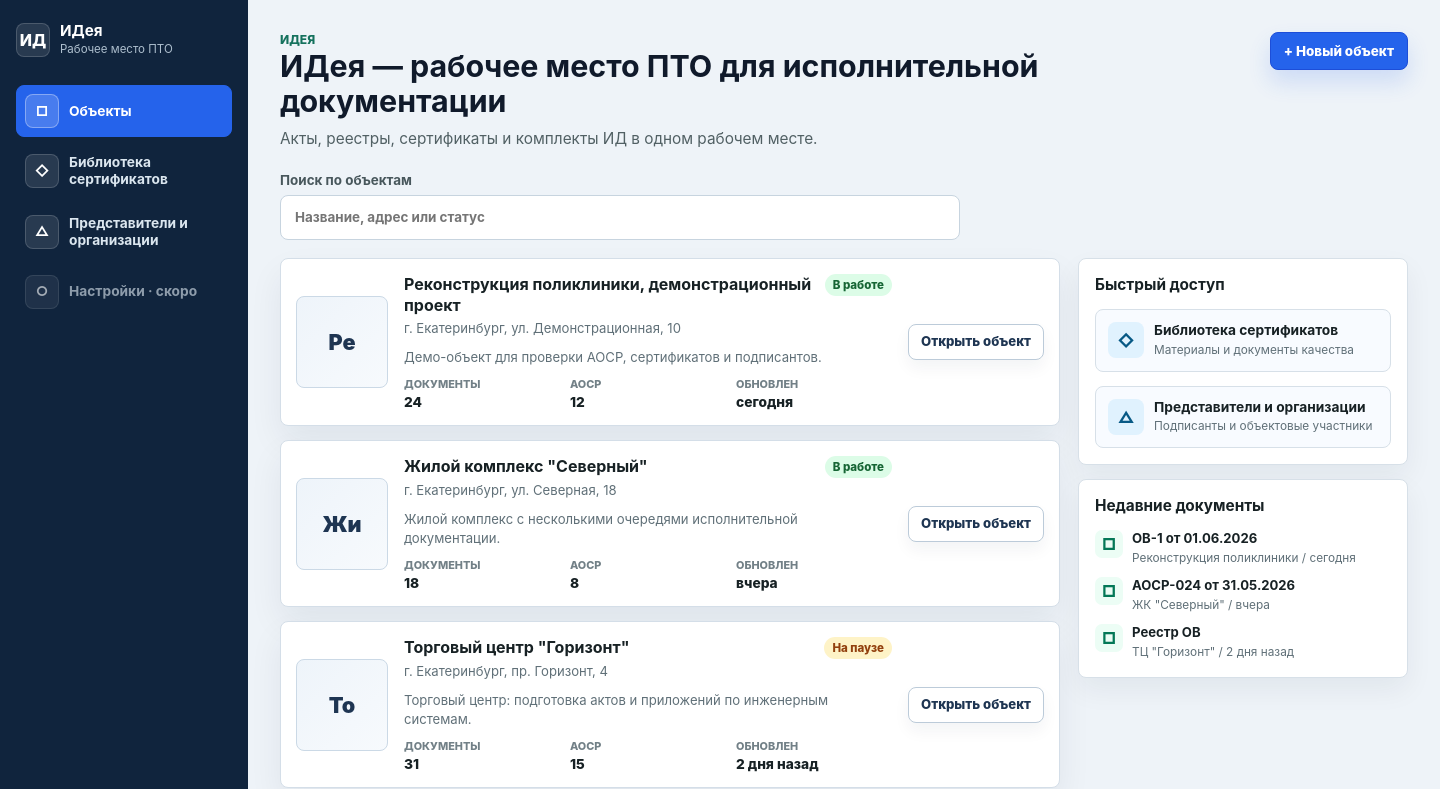
Test case: App shell mock navigation › switches object workspace sections and renders the object documents page
Click the 1st link "Открыть объект": (976, 342) x1=908 y1=324 x2=1044 y2=360
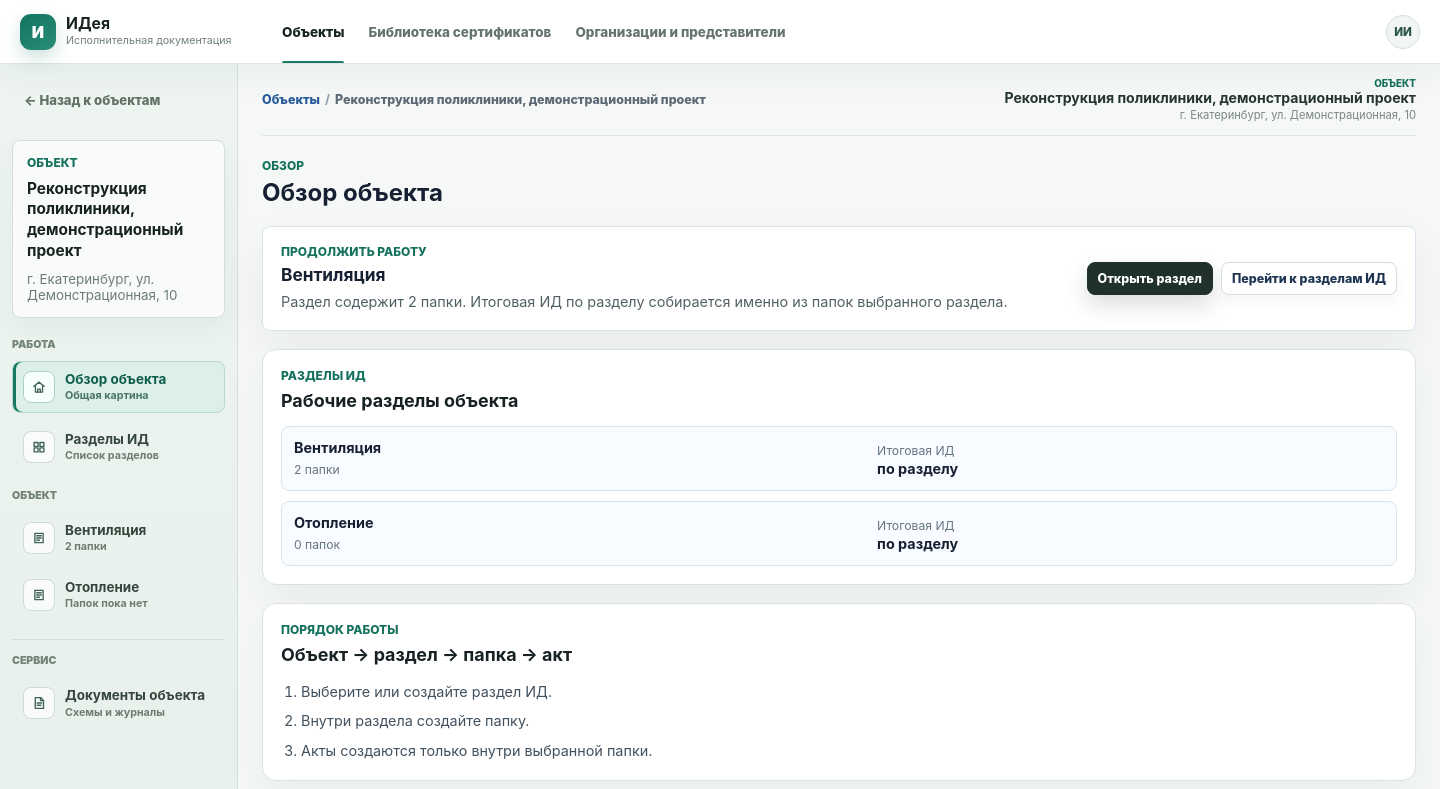
Click the link with aria-label "Открыть документы объекта": (118, 703) x1=12 y1=677 x2=225 y2=729
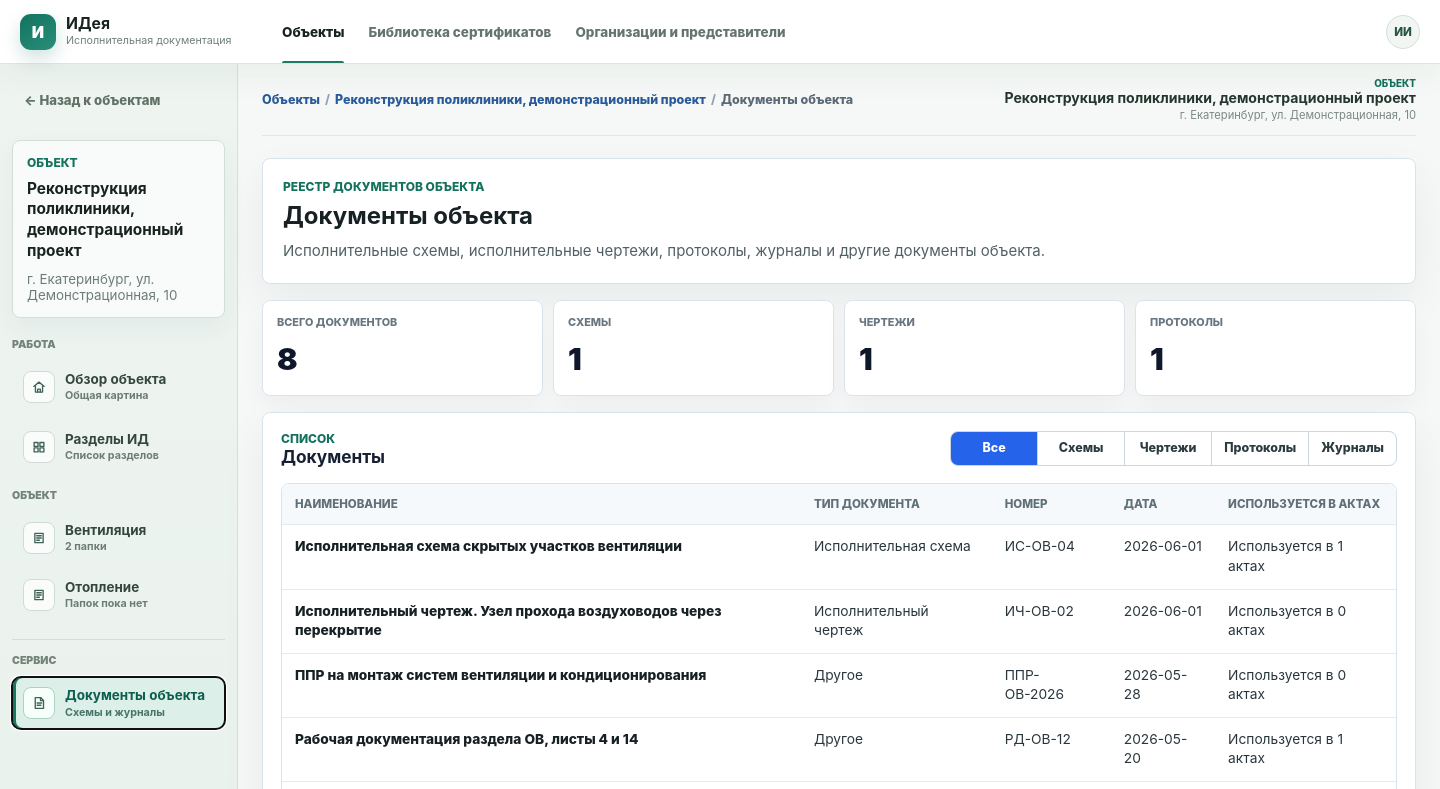
expect the heading "Документы объекта" is shown: met, box x1=283 y1=201 x2=533 y2=230
expect the text "Исполнительные схемы, исполнительные чертежи, протоколы, журналы и другие документы объекта." is shown: met, box x1=283 y1=241 x2=1045 y2=260
expect the column heading "Наименование" is shown: met, box x1=282 y1=484 x2=801 y2=525
Click the link with aria-label "Открыть раздел Вентиляция": (85, 538) x1=23 y1=522 x2=146 y2=554
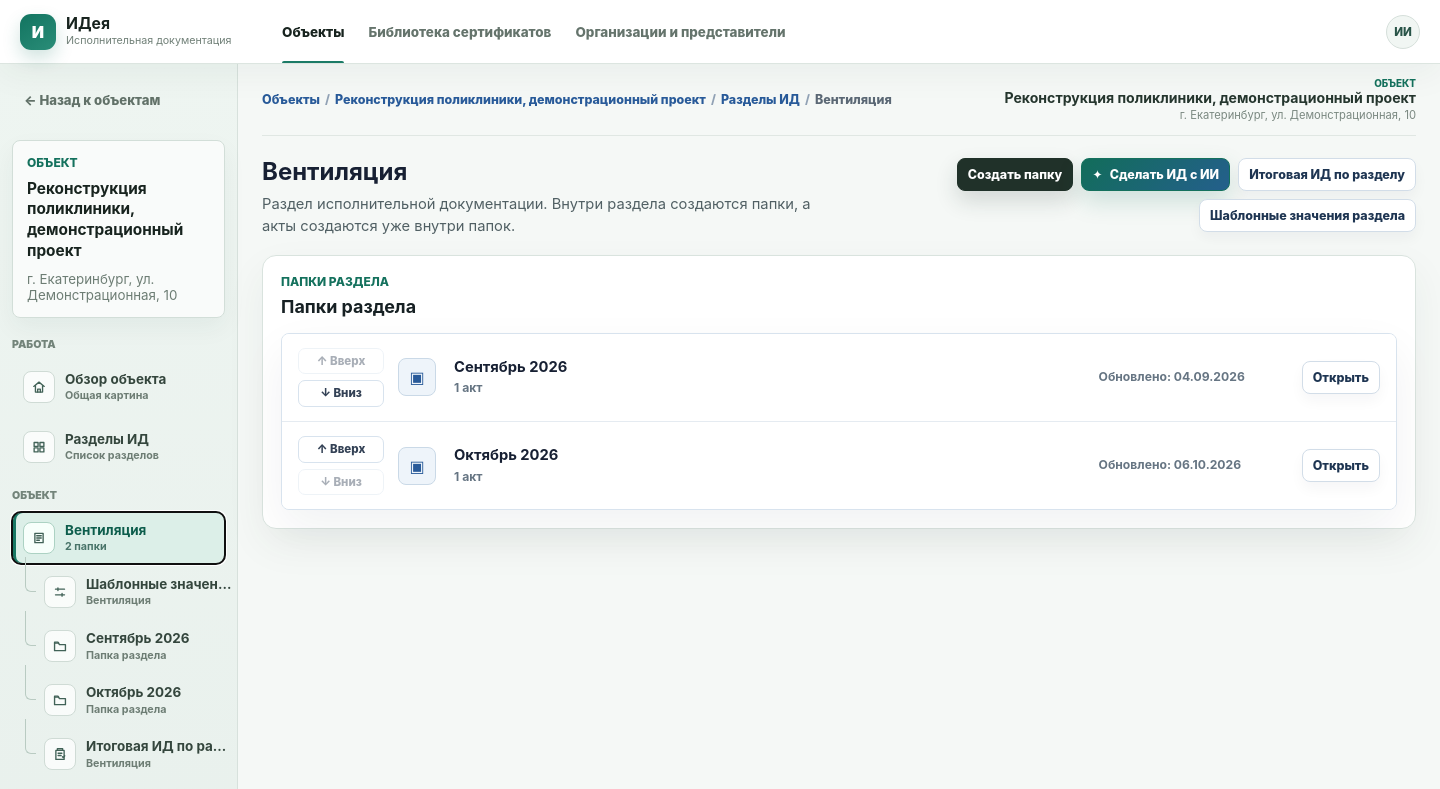
Click the link with aria-label "Открыть папку Сентябрь 2026": (117, 646) x1=44 y1=630 x2=189 y2=662
(page scrolled)
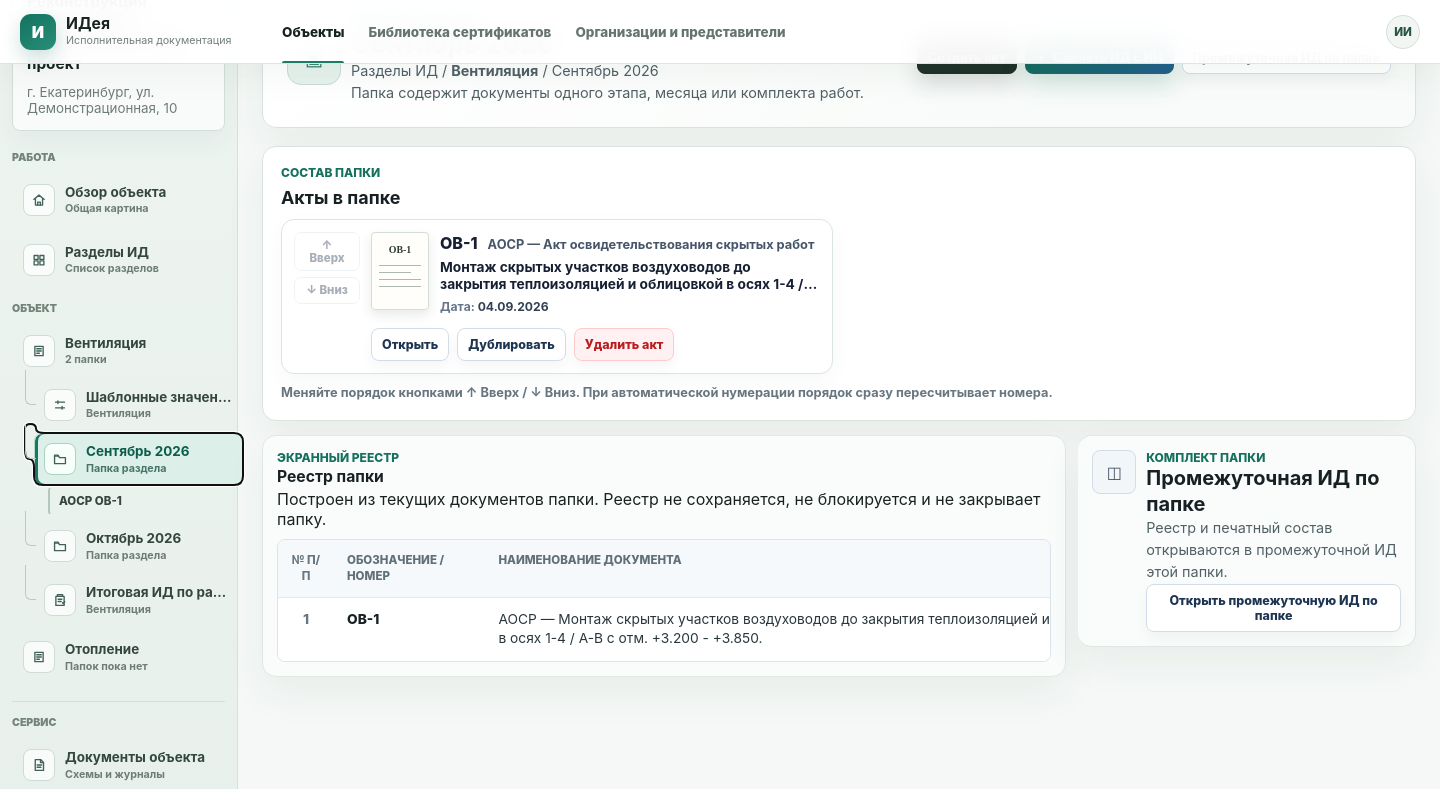
expect the heading "Акты в папке" is shown: met, box x1=281 y1=187 x2=400 y2=208
expect the link "АОСР ОВ-1" is shown: met, box x1=48 y1=487 x2=225 y2=515
expect the heading "Реестр папки" is shown: met, box x1=277 y1=467 x2=384 y2=486
Click the link "Итоговая ИД по разделу Вентиляция": (138, 600) x1=34 y1=574 x2=243 y2=626
(page scrolled)
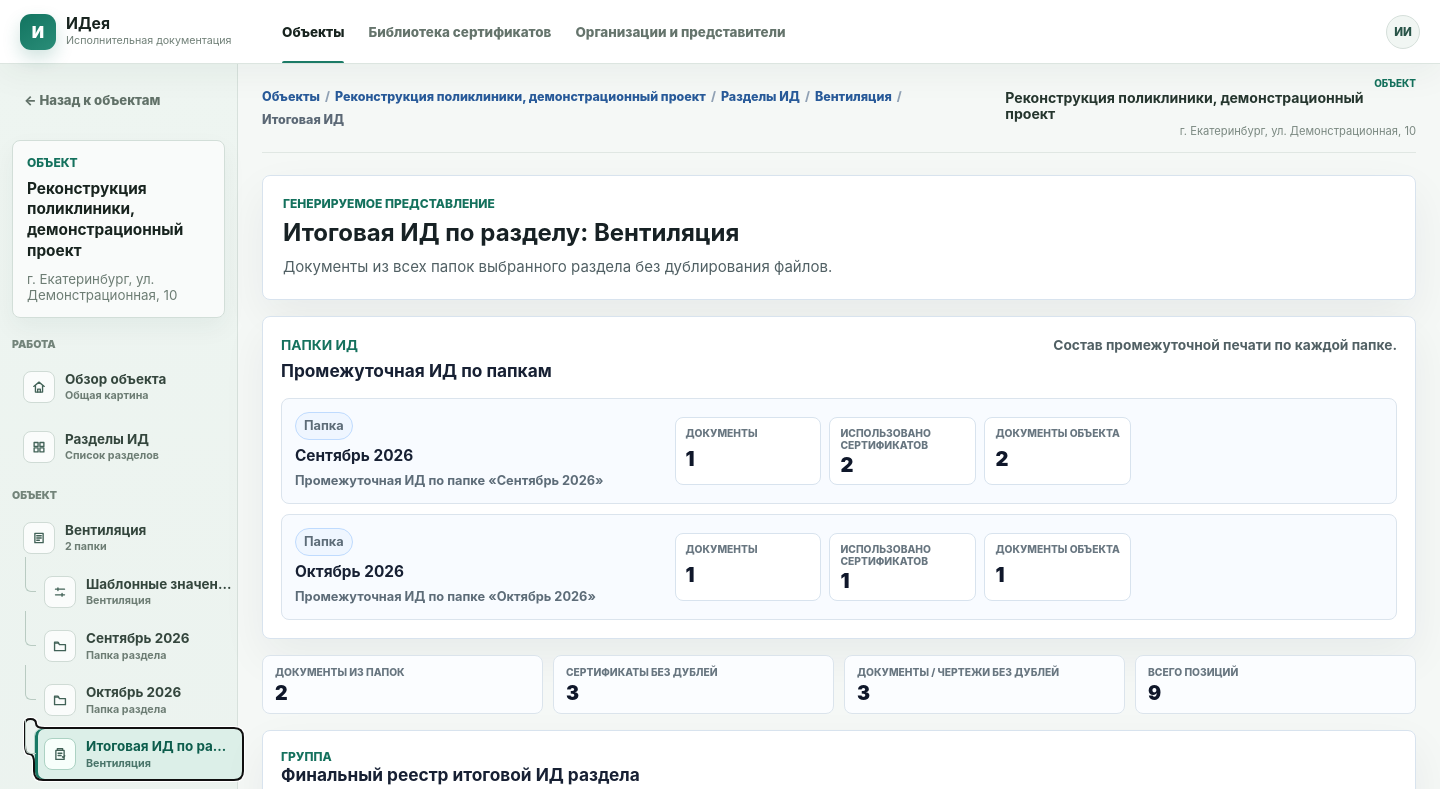
expect the heading "Итоговая ИД по разделу: Вентиляция" is shown: met, box x1=283 y1=218 x2=739 y2=247
